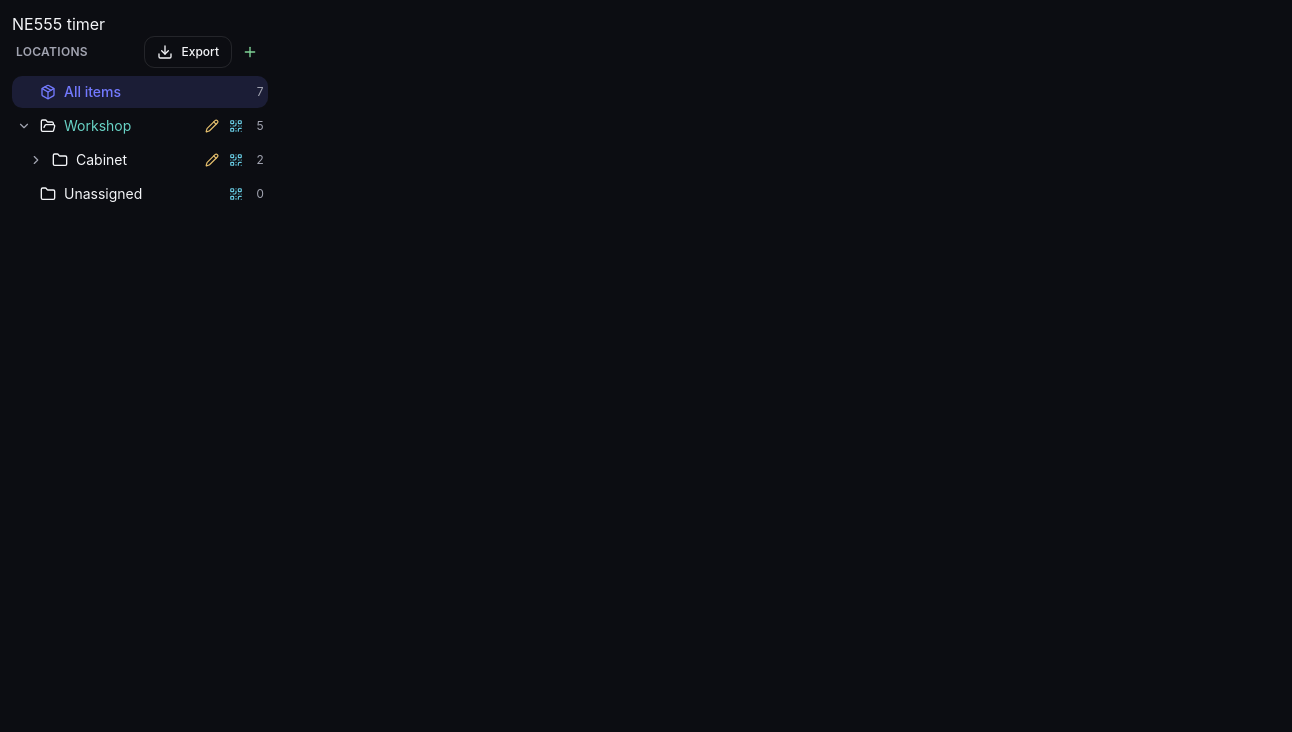
Scenario: LocationSidebar — drag-to-move item feedback › moves the item and surfaces a toast + live announcement when dropped on a location
The width and height of the screenshot is (1292, 732).
Press the mouse on the text with test id "item-source" at (59, 24), box [12, 14, 105, 34]
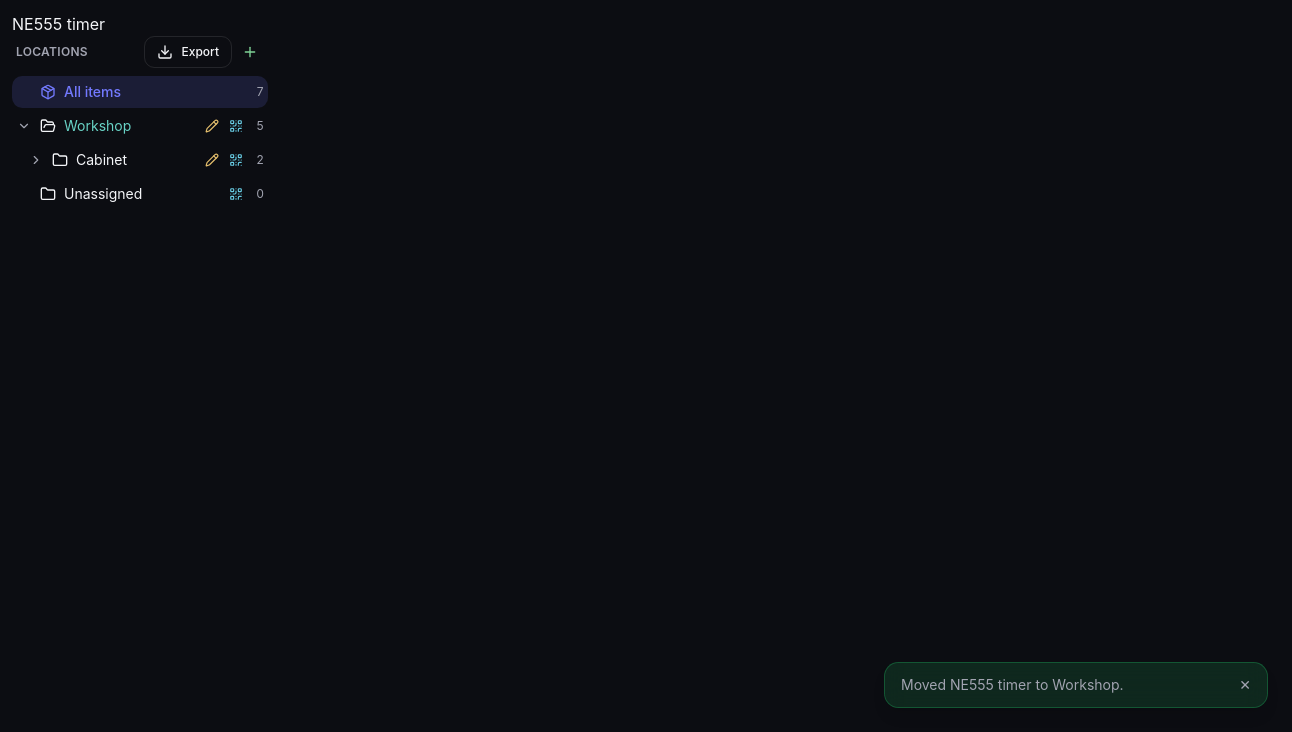
Expected: the text "Moved NE555 timer to Workshop." is shown, [901, 676, 1124, 693]
